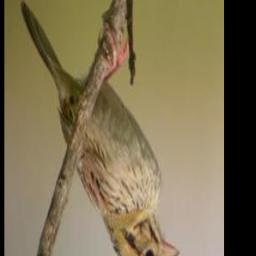Sparrow: (19, 0, 180, 256)
